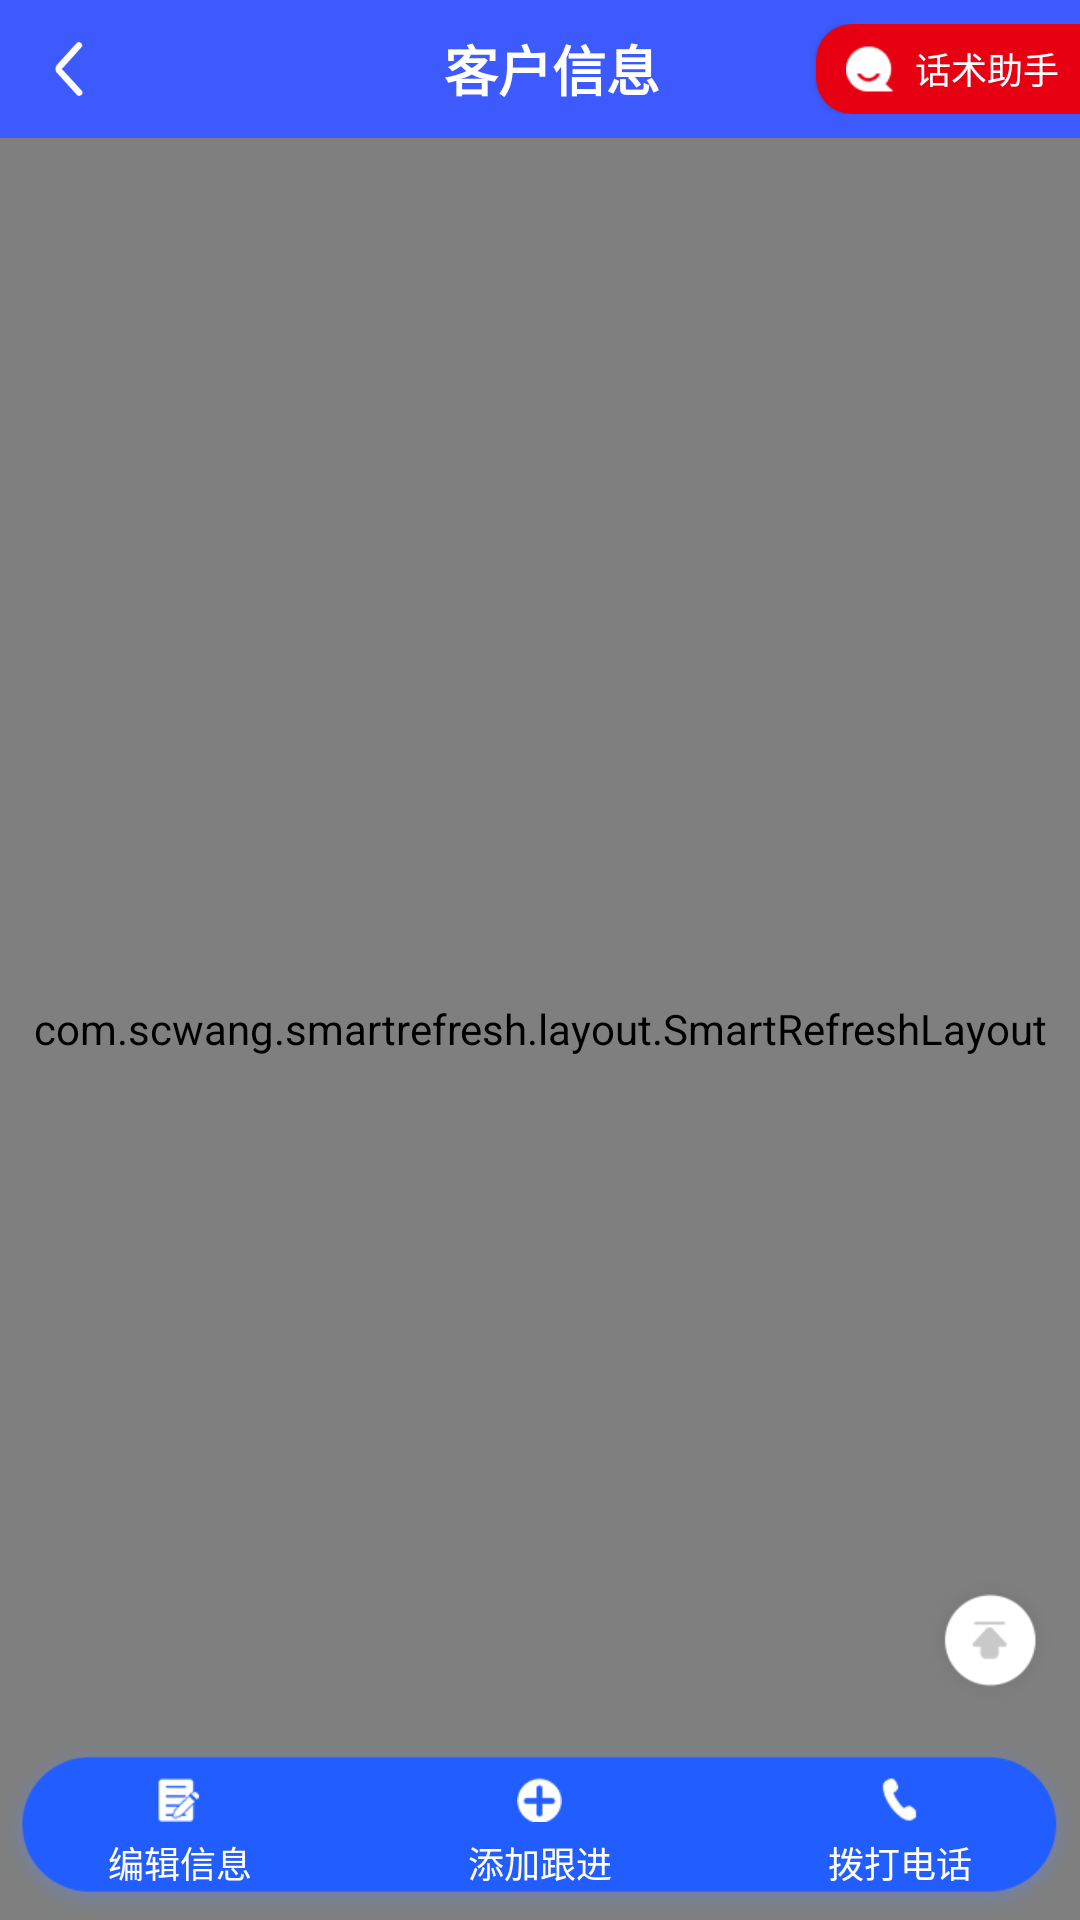

Icon bounding boxes for this 1080×1920 phone screenshot, format (x1, y1, x2, y2):
fanhui two: (55, 42, 83, 96)
